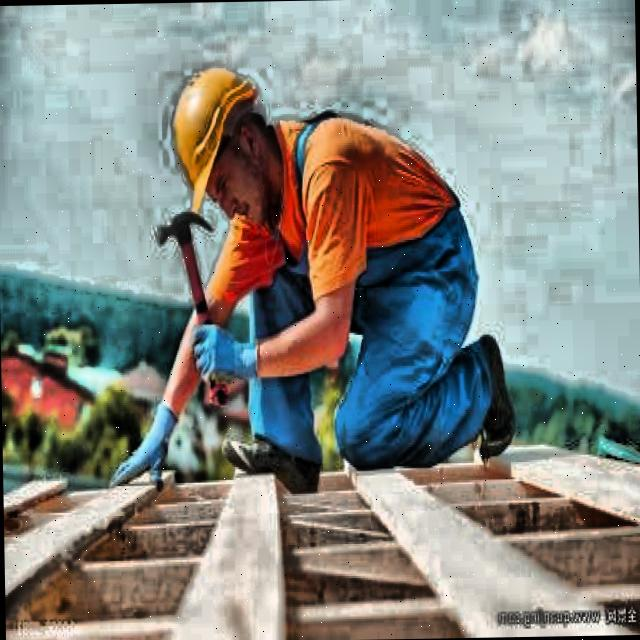helmet: (166, 58, 283, 222)
